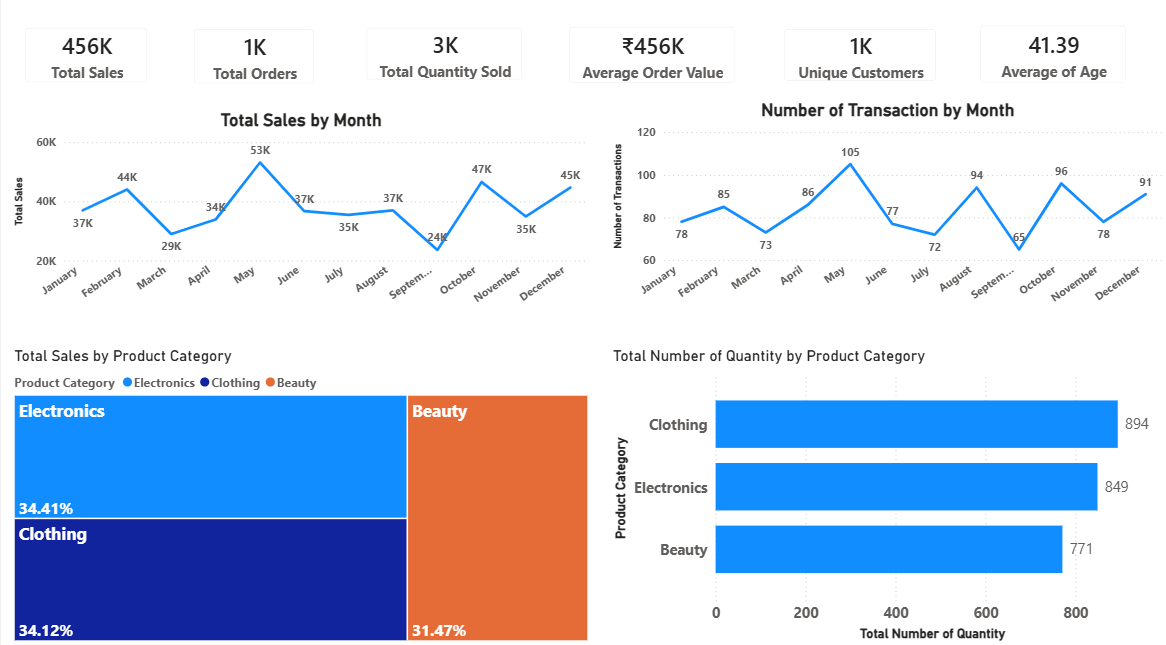

What the dashboard file says about the page in this screenshot:
{"tool":"powerbi","page":{"name":"Sales Data Dashboard","canvas":[1280,720],"ordinal":0},"visuals":[{"type":"cardVisual","fields":{"Data":["Sum(retail_sales_dataset.Total Amount)"]},"box":[9.6,24.7,168.8,94.7],"z":0},{"type":"cardVisual","fields":{"Data":["CountNonNull(retail_sales_dataset.Transaction ID)"]},"box":[194.9,26.1,166,94.7],"z":1000},{"type":"cardVisual","fields":{"Data":["Sum(retail_sales_dataset.Quantity)"]},"box":[384.2,24.7,205.8,91.9],"z":2000},{"type":"cardVisual","fields":{"Data":["Sum(retail_sales_dataset.Average Order Value)"]},"box":[606.5,23.3,216.8,96.1],"z":3000},{"type":"cardVisual","fields":{"Data":["Count(retail_sales_dataset.Customer ID)"]},"box":[842.5,26.1,201.7,91.9],"z":4000},{"type":"cardVisual","fields":{"Data":["Avg(retail_sales_dataset.Age)"]},"box":[1058,22,194.9,97.4],"z":5000},{"type":"lineChart","fields":{"Y":["Sum(retail_sales_dataset.Total Amount)"],"Category":["Date Table.Date.Variation.Date Hierarchy.Month"]},"box":[10,131.7,640,243.3],"z":6000},{"type":"treemap","fields":{"Group":["retail_sales_dataset.Product Category"],"Values":["Sum(retail_sales_dataset.Total Amount)"]},"box":[9.6,391.1,640.8,329.3],"z":7000},{"type":"lineChart","fields":{"Y":["CountNonNull(retail_sales_dataset.Transaction ID)"],"Category":["Date Table.Date.Variation.Date Hierarchy.Month"]},"box":[666.9,120.8,613.4,253.9],"z":8000},{"type":"barChart","fields":{"Category":["retail_sales_dataset.Product Category"],"Y":["Sum(retail_sales_dataset.Quantity)"]},"box":[666.7,391.7,613.3,328.3],"z":9000},{"type":"textbox","box":[31.6,0,367.8,45.3],"z":10000}]}

Visuals, with their boxes in screenshot pixels (x1, y1, x2, y2), scaled from the page's 1280x720 canvas onto the 1166x645 screenshot:
cardVisual - Sum(retail_sales_dataset.Total Amount): {"x1": 9, "y1": 22, "x2": 163, "y2": 107}
cardVisual - CountNonNull(retail_sales_dataset.Transaction ID): {"x1": 178, "y1": 23, "x2": 329, "y2": 108}
cardVisual - Sum(retail_sales_dataset.Quantity): {"x1": 350, "y1": 22, "x2": 537, "y2": 104}
cardVisual - Sum(retail_sales_dataset.Average Order Value): {"x1": 552, "y1": 21, "x2": 750, "y2": 107}
cardVisual - Count(retail_sales_dataset.Customer ID): {"x1": 767, "y1": 23, "x2": 951, "y2": 106}
cardVisual - Avg(retail_sales_dataset.Age): {"x1": 964, "y1": 20, "x2": 1141, "y2": 107}
lineChart - Sum(retail_sales_dataset.Total Amount) x Date Table.Date.Variation.Date Hierarchy.Month: {"x1": 9, "y1": 118, "x2": 592, "y2": 336}
treemap - retail_sales_dataset.Product Category x Sum(retail_sales_dataset.Total Amount): {"x1": 9, "y1": 350, "x2": 592, "y2": 644}
lineChart - CountNonNull(retail_sales_dataset.Transaction ID) x Date Table.Date.Variation.Date Hierarchy.Month: {"x1": 608, "y1": 108, "x2": 1165, "y2": 336}
barChart - retail_sales_dataset.Product Category x Sum(retail_sales_dataset.Quantity): {"x1": 607, "y1": 351, "x2": 1165, "y2": 644}
textbox: {"x1": 29, "y1": 0, "x2": 364, "y2": 41}
